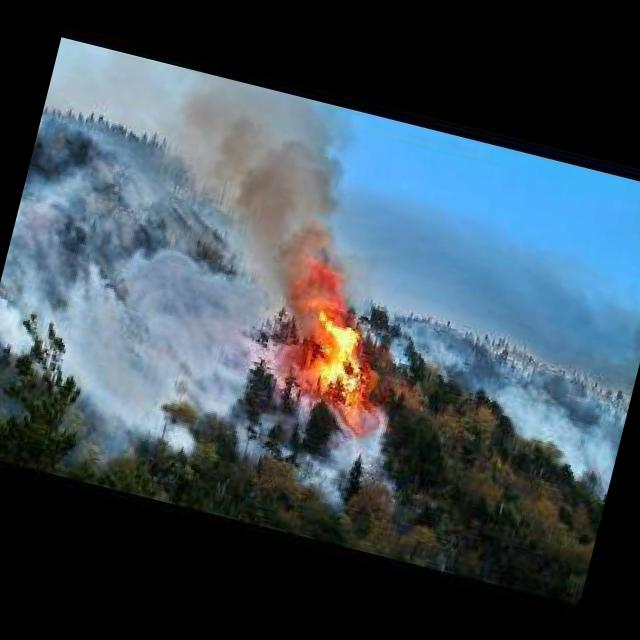Fire: (290, 301, 384, 408)
Smoke: (146, 73, 389, 310)
